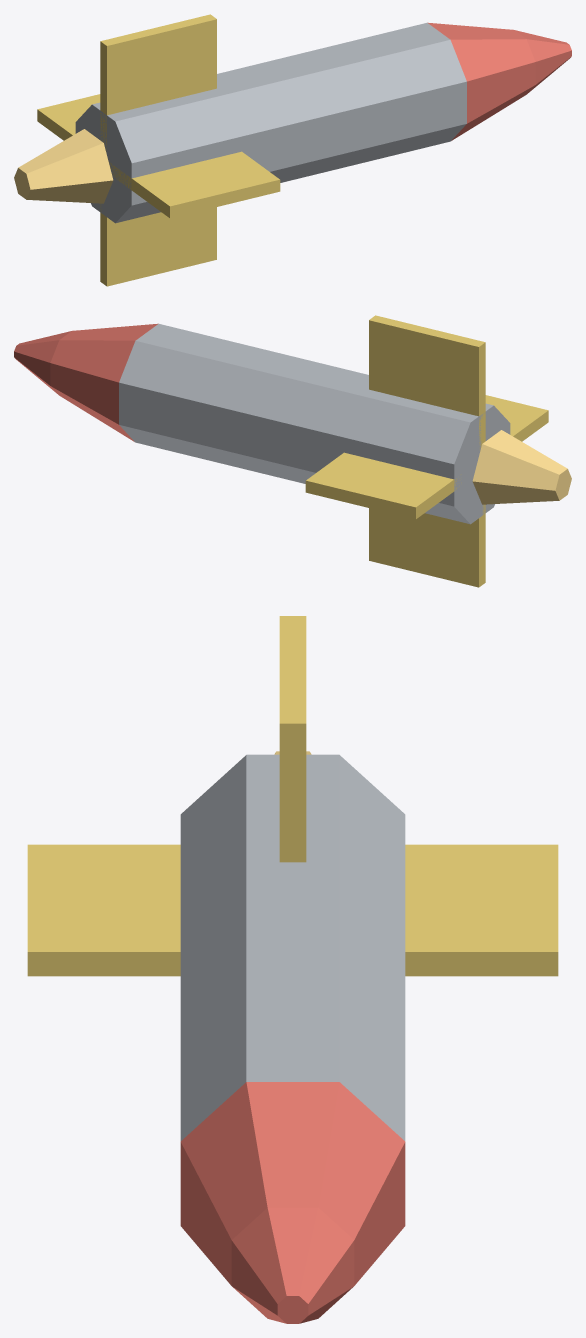
The model's file is missile.gltf.
3 views of the same model, one above another, from view 1: azimuth 30°, elevation 25°; view 2: azimuth 150°, elevation 25°; view 3: azimuth 270°, elevation 25° (orthographic). The views are drawn at different scales.
Parts seen in each view (by area): view 1: Body, Fins, Nose, Exhaust; view 2: Body, Fins, Nose, Exhaust; view 3: Body, Fins, Nose.
Part boxes in pixels (x1,y1,x2,y2): Body: (75, 23, 466, 223); Fins: (37, 14, 280, 286); Nose: (427, 22, 571, 140); Exhaust: (14, 129, 113, 203); Body: (119, 324, 510, 524); Fins: (305, 315, 548, 587); Nose: (14, 323, 158, 441); Exhaust: (472, 430, 571, 504); Body: (180, 754, 405, 1140); Fins: (27, 616, 558, 976); Nose: (180, 1082, 405, 1323).
Size of the model in its own units: 1.14 by 0.48 by 0.48.
